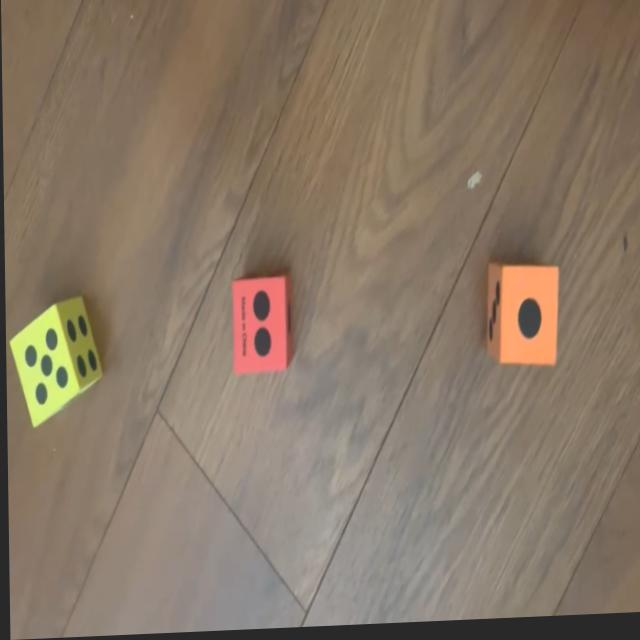cube: (228, 272, 292, 378)
